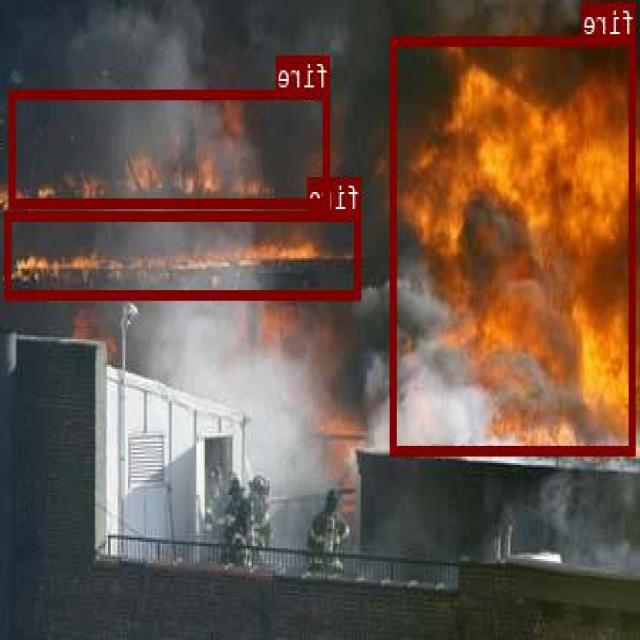fire: (393, 36, 637, 454), (10, 88, 330, 206), (7, 211, 362, 297)
